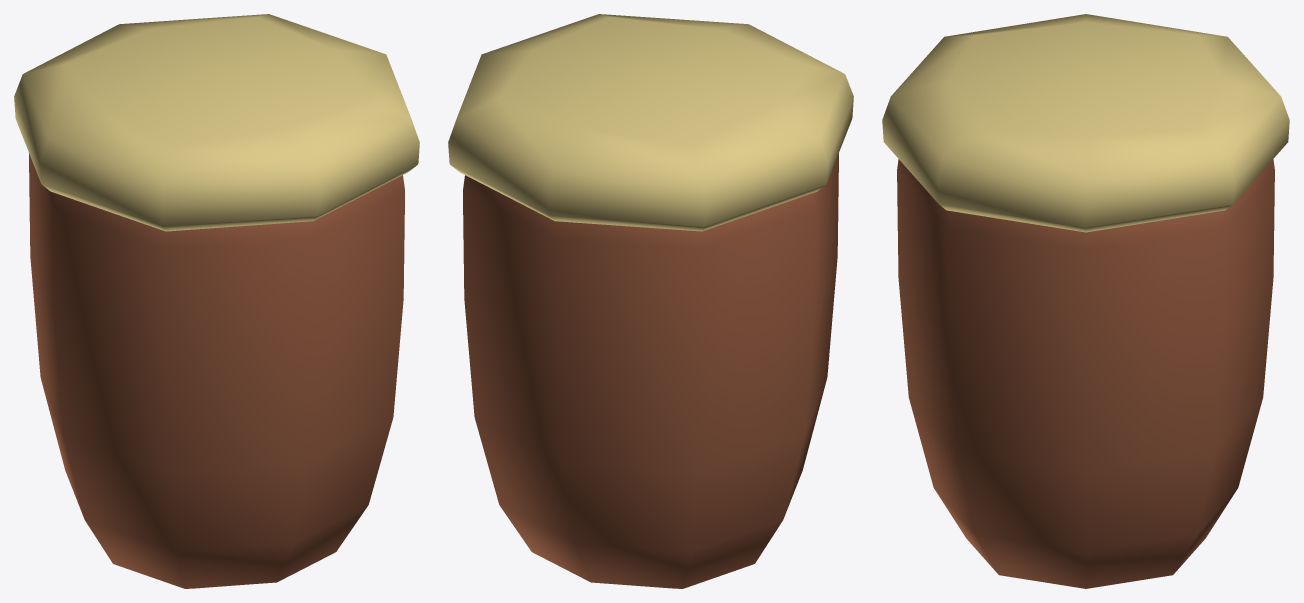
The model's file is Basket.fbx.
3 renders of one model, left to right at view 1: azimuth 30°, elevation 25°; view 2: azimuth 150°, elevation 25°; view 3: azimuth 270°, elevation 25°, orthographic.
Visible parts, largest first — view 1: Basket; view 2: Basket; view 3: Basket.
Part boxes in pixels (<box>): Basket: <box>14,14,419,588</box>; Basket: <box>448,14,853,588</box>; Basket: <box>882,14,1289,588</box>.
Bounding box in the file's own units: 24.16 × 31.27 × 24.16.
